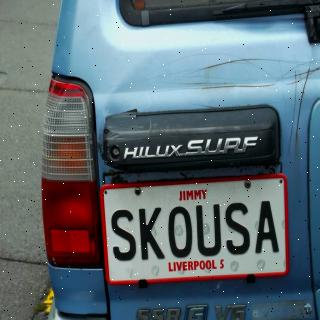license: (105, 179, 287, 281)
